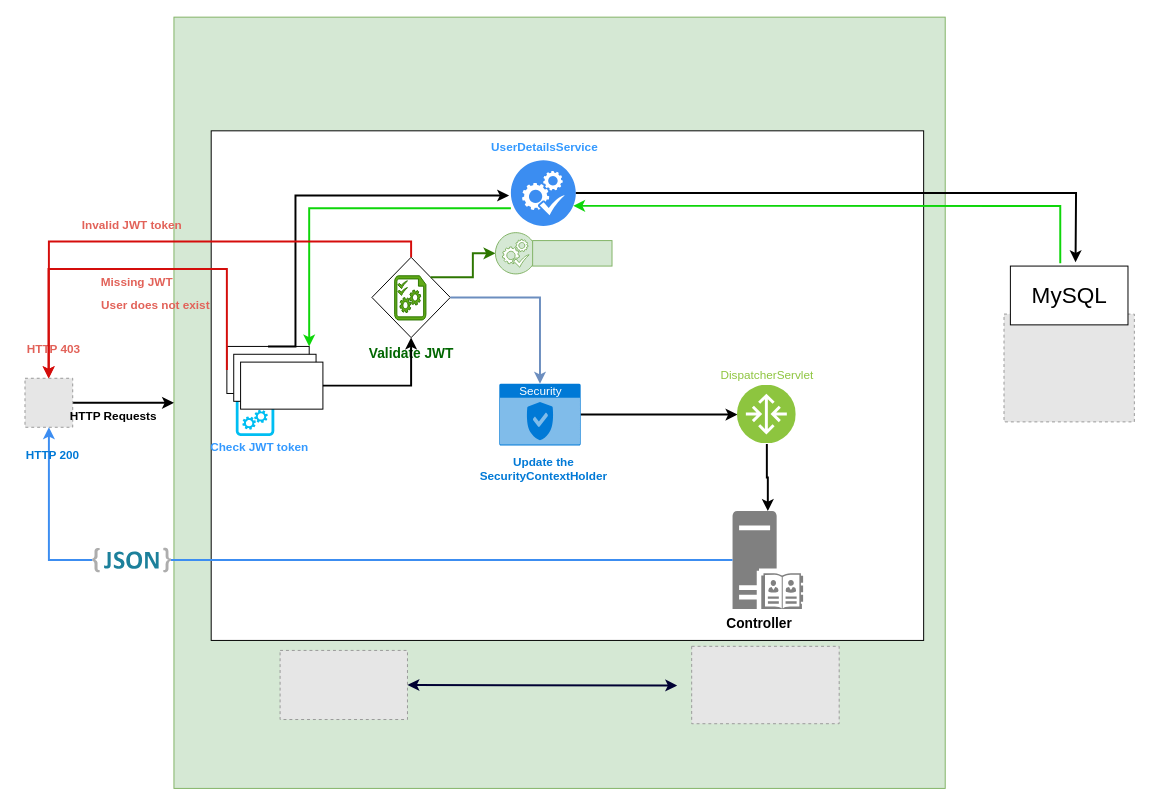
This 1152x806 diagram has some shape labels left out. Grey dashed boxes stand in for pictures. The shapes that lost their labels are listed below. From the top down, each one's centre as x and y in pixels, then its label:
At (572,253): "JwtService".
At (281,385): "JwtAuthFilter".
